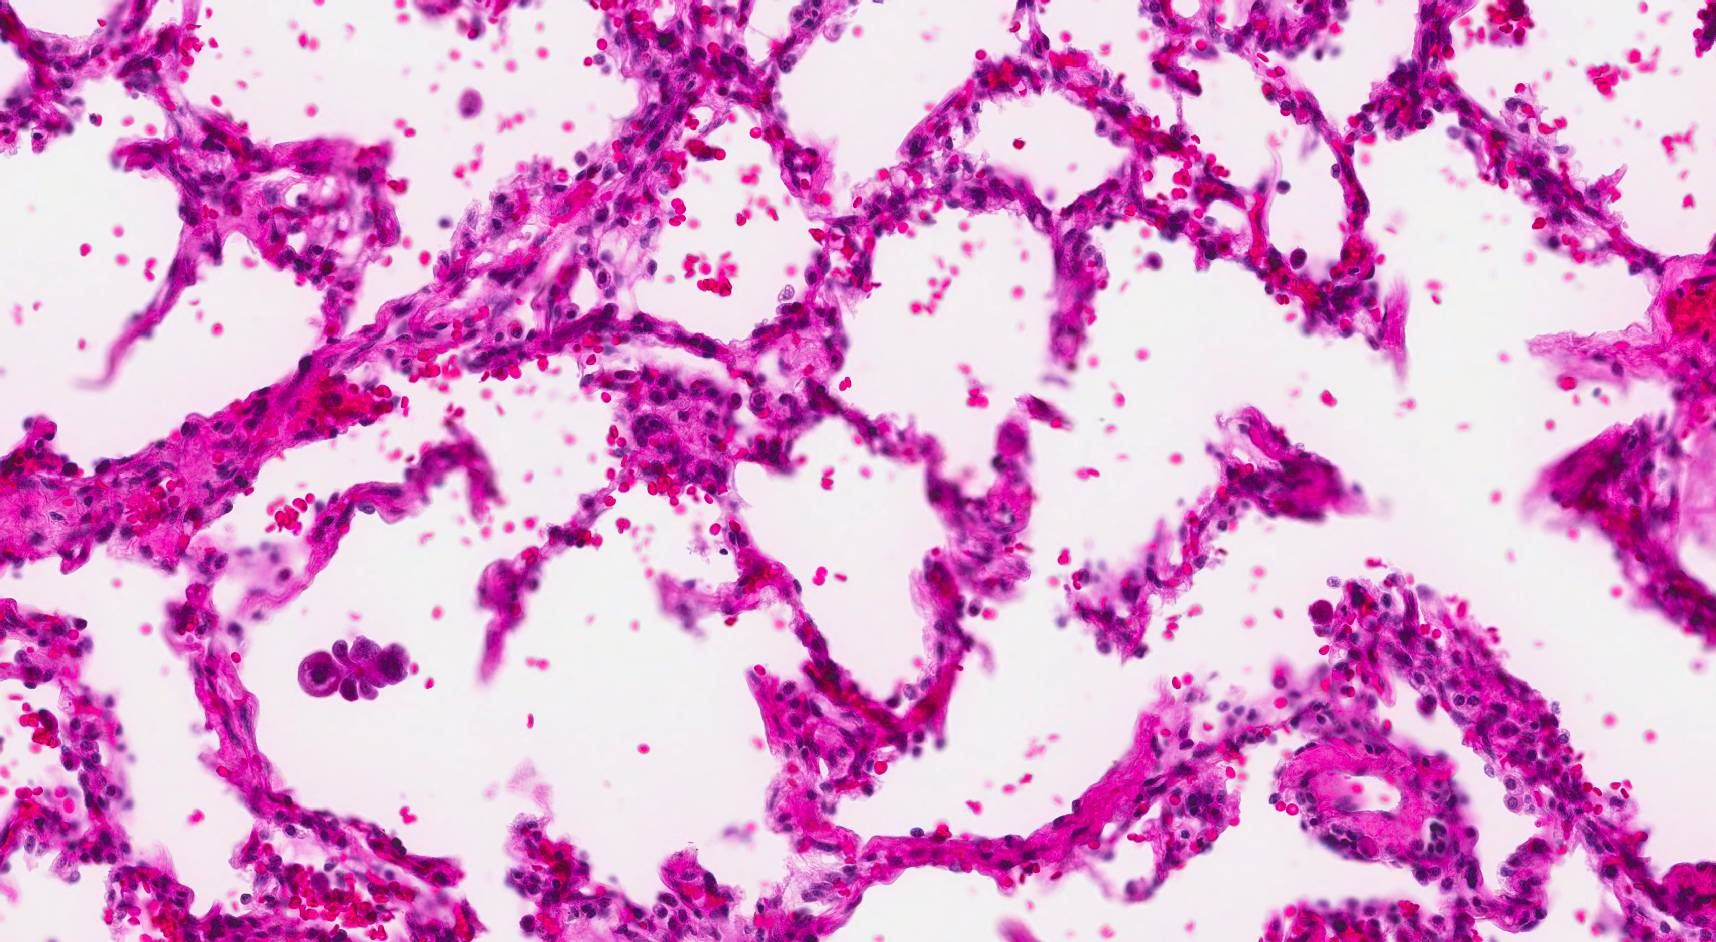stas: (296, 638, 413, 704)
